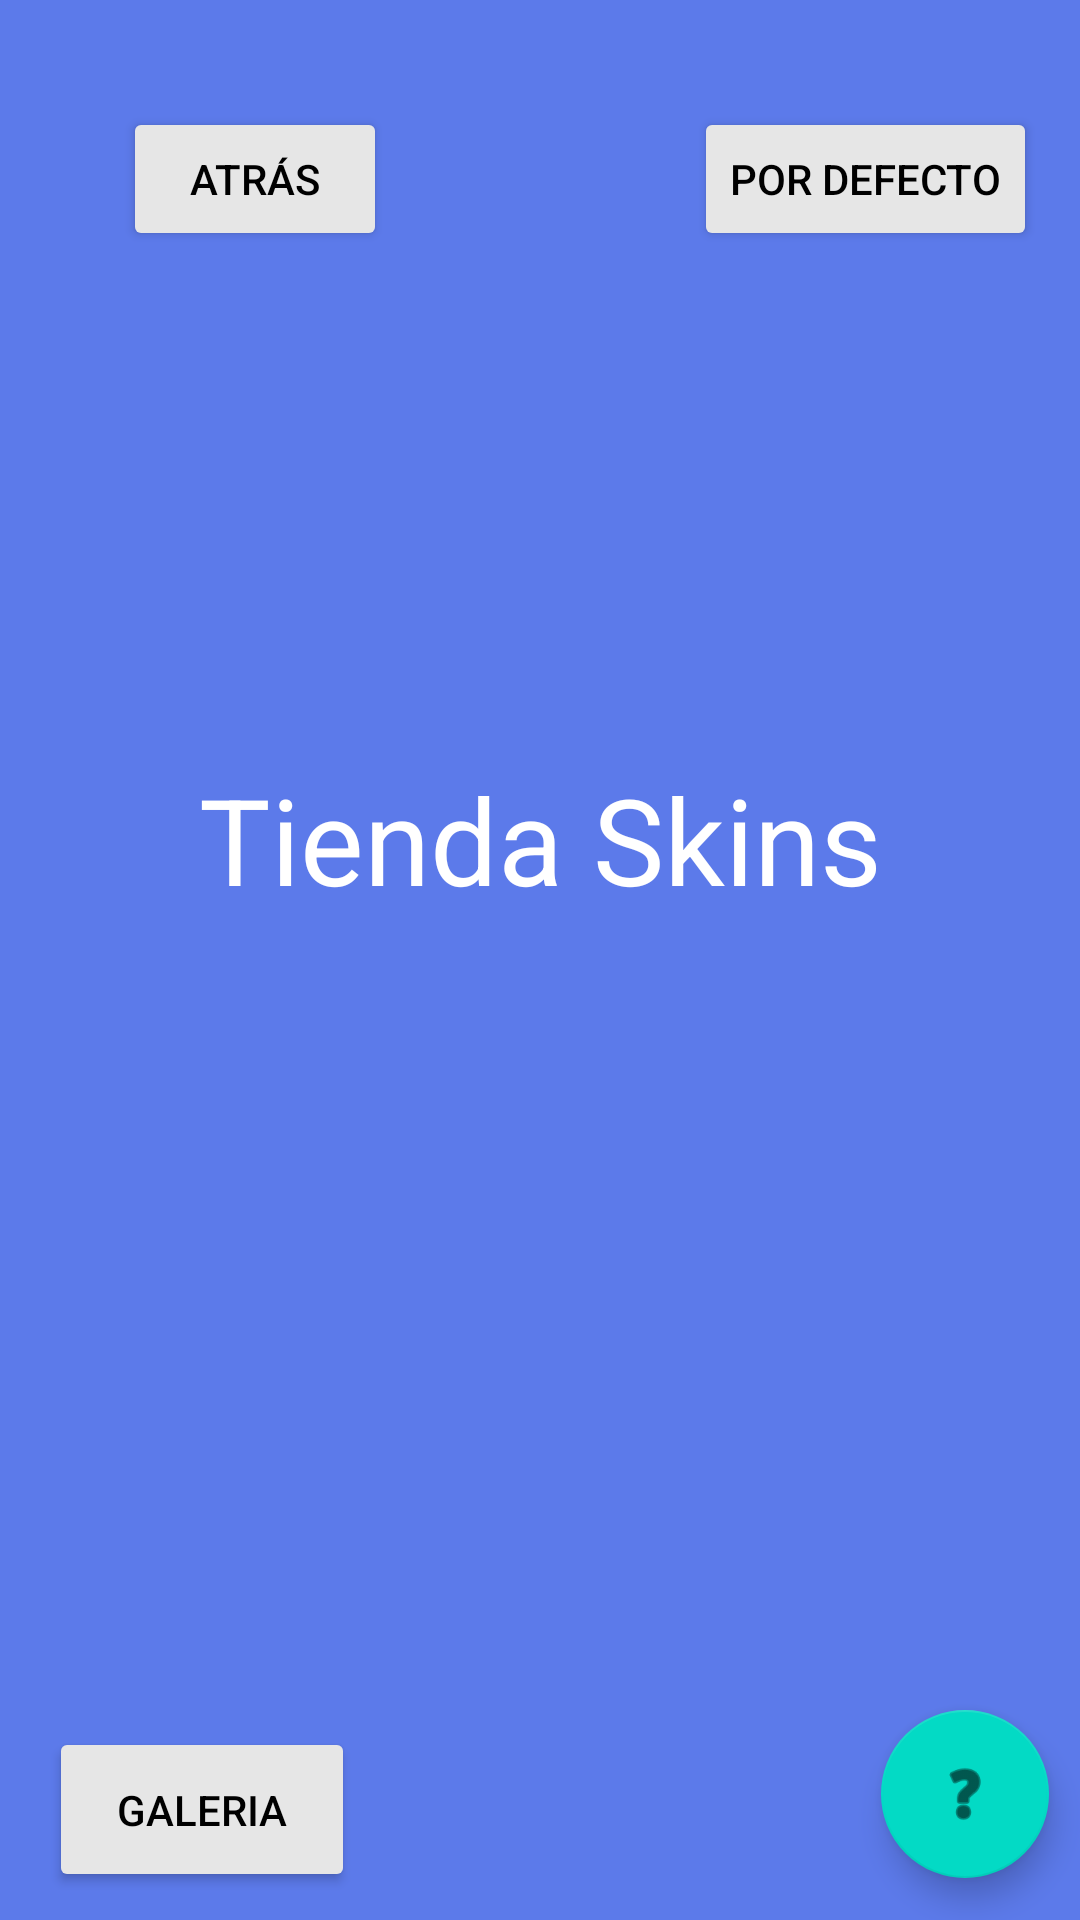

Named icons in this screenshot (1080w x 1920h) and their bounding boxes, (x1, y1, x2, y2):
help: (881, 1710, 1049, 1878)
